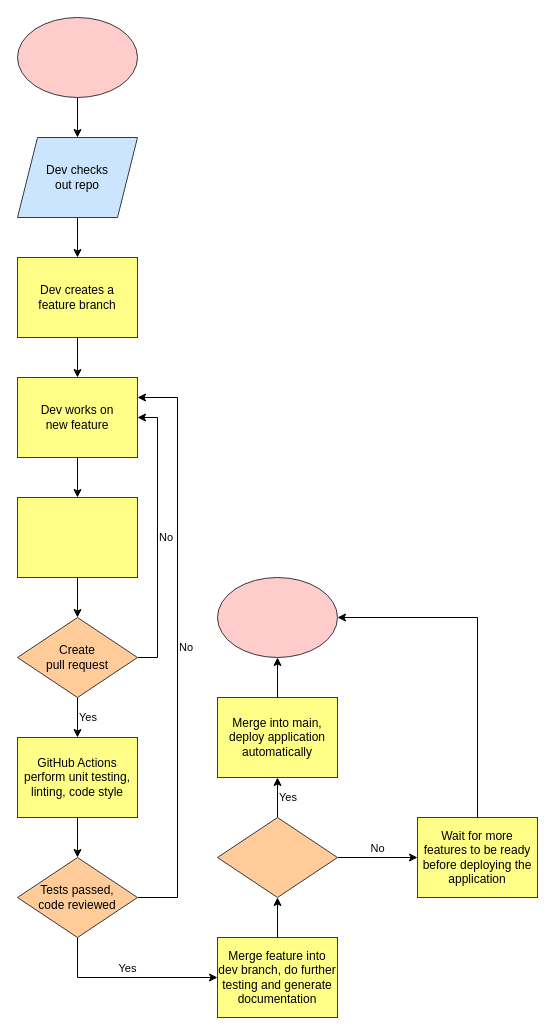
The diagram is 555 pixels wide and 1035 high, and some of its shapes have lost their labels. Each missing label, with the centre of its shape:
"Dev commits or pushes to new feature branch" goes at point 77,537.
"End" goes at point 277,617.
"Ready to be deployed?" goes at point 277,857.
"Start" goes at point 77,57.
